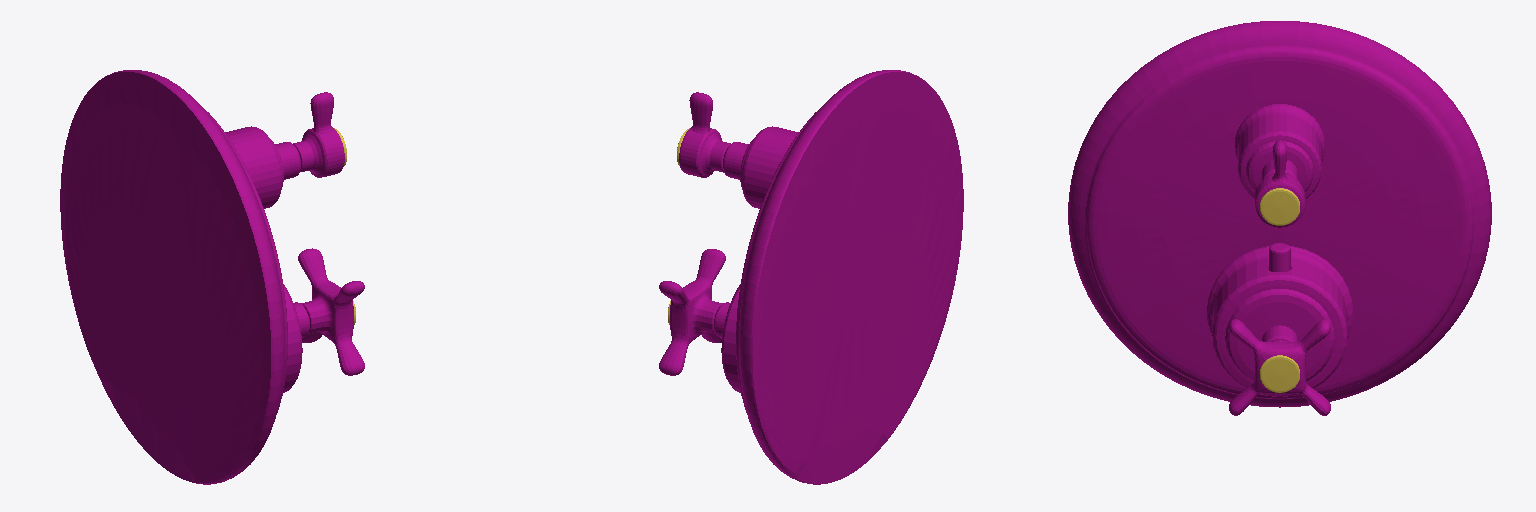
3 views of the same model, side by side, from view 1: azimuth 30°, elevation 25°; view 2: azimuth 150°, elevation 25°; view 3: azimuth 270°, elevation 25° (orthographic).
Parts seen in each view (by area): view 1: Object004, nickel__1_0; view 2: Object004, nickel__1_0; view 3: Object004, nickel__1_0, Object001, white__1_0.
Part boxes in pixels (x1,y1,x2,y2): Object004: (60,70,287,484); nickel__1_0: (225,92,364,392); Object004: (736,70,963,484); nickel__1_0: (659,92,798,392); Object004: (1068,21,1491,407); nickel__1_0: (1207,104,1352,415); Object001: (1260,188,1299,225); white__1_0: (1260,355,1299,392).
Bounding box in the file's own units: 86.91 × 175 × 175.